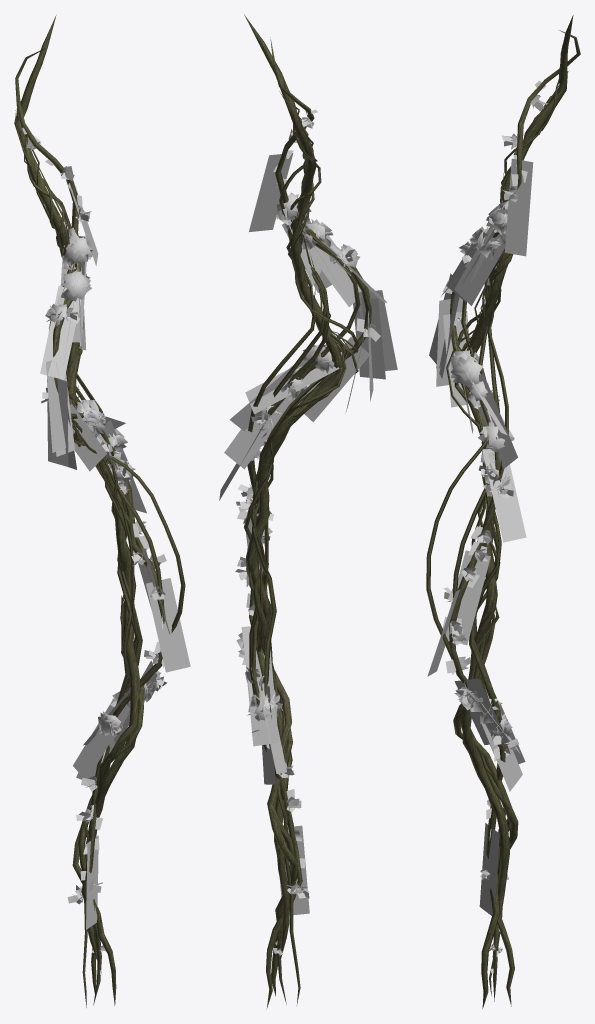
The model's file is Liana3_L1.fbx.
The picture shows the model from 3 angles, left to right: view 1: azimuth 30°, elevation 25°; view 2: azimuth 150°, elevation 25°; view 3: azimuth 270°, elevation 25°; orthographic projection. The views are drawn at different scales.
Parts seen in each view (by area): view 1: polySurface49; view 2: polySurface49; view 3: polySurface49.
Boxes of the visible parts, x1,y1,x2,y2 form: polySurface49: (14,15,190,1007); polySurface49: (219,14,397,1009); polySurface49: (426,15,580,1008).
Bounding box in the file's own units: 217 × 1433 × 203.
